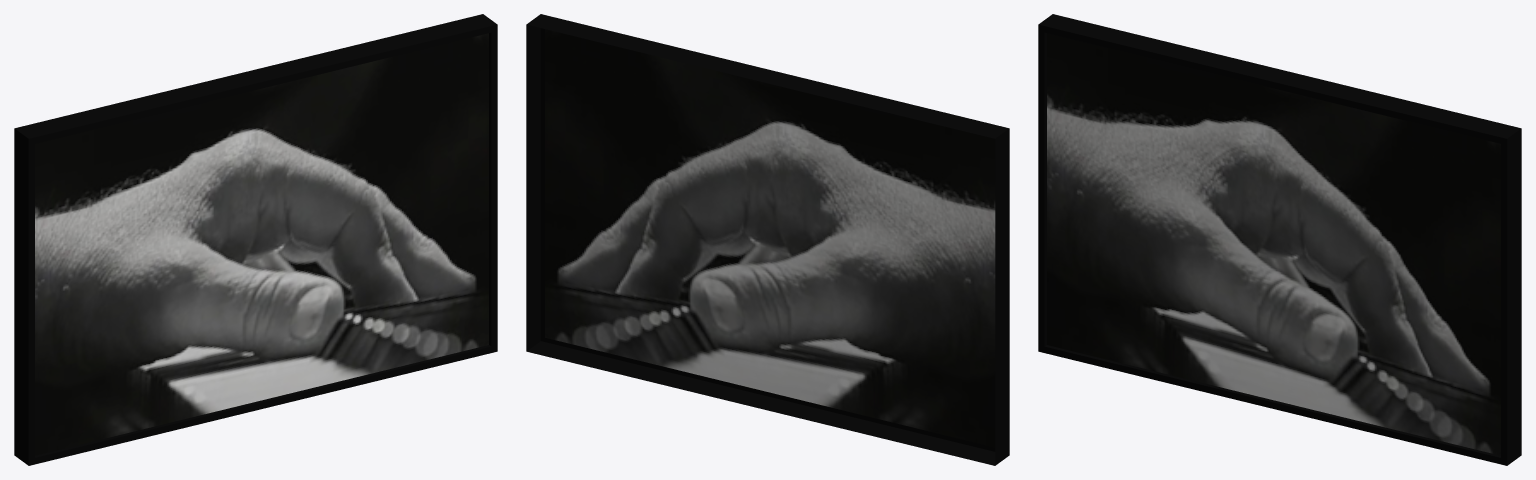
File: CR_Painting01.fbx
The picture shows the model from 3 angles, left to right: view 1: azimuth 30°, elevation 25°; view 2: azimuth 150°, elevation 25°; view 3: azimuth 330°, elevation 25°; orthographic projection.
Parts seen in each view (by area): view 1: CR_Painting01; view 2: CR_Painting01; view 3: CR_Painting01.
Part boxes in pixels (box(x1,y1,x2,y2)): CR_Painting01: box(14, 14, 497, 465); CR_Painting01: box(526, 14, 1009, 465); CR_Painting01: box(1038, 14, 1521, 465).
Size of the model in its own units: 1.5 by 1 by 0.08.
